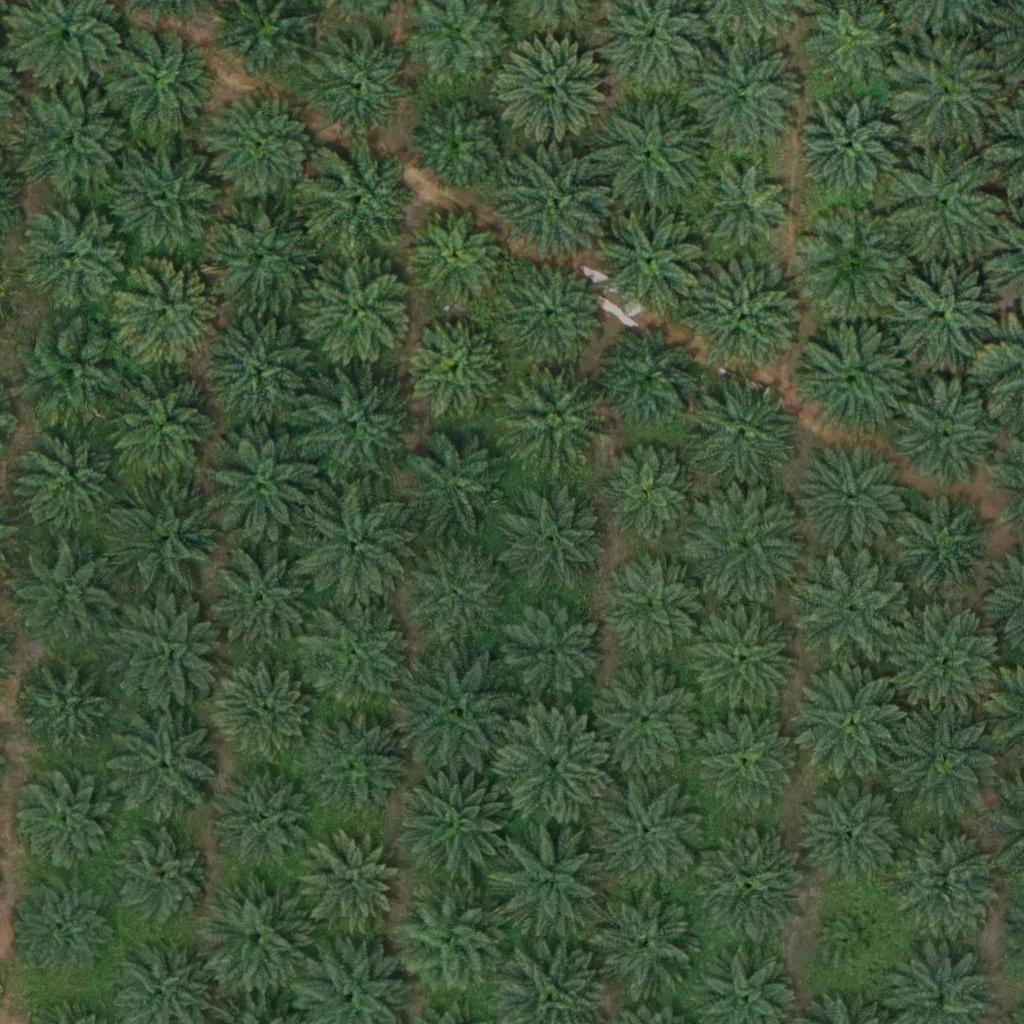Kelapa_Sawit: (99, 24, 212, 138), (206, 90, 319, 204), (304, 143, 417, 257), (301, 254, 414, 368), (890, 825, 1003, 939), (796, 666, 909, 780), (402, 426, 515, 540), (391, 882, 504, 996), (14, 321, 127, 434), (202, 203, 315, 316), (498, 36, 611, 149), (594, 95, 707, 208), (595, 200, 708, 313), (689, 260, 802, 373), (799, 319, 912, 432), (890, 35, 1003, 148), (894, 606, 1007, 719), (888, 701, 1001, 814), (795, 441, 908, 554), (799, 557, 912, 670), (686, 376, 799, 489), (691, 490, 804, 603), (498, 709, 611, 822), (495, 821, 608, 934), (399, 539, 512, 652), (404, 658, 517, 771), (397, 770, 510, 883), (299, 370, 412, 483), (301, 492, 414, 605), (106, 594, 219, 707), (106, 710, 219, 823), (104, 822, 217, 935), (496, 361, 608, 475), (692, 604, 804, 718), (495, 485, 607, 599), (15, 83, 127, 196), (16, 201, 128, 314), (111, 142, 223, 255), (112, 257, 224, 370), (209, 310, 321, 423), (496, 149, 608, 262), (494, 259, 606, 372), (686, 42, 798, 155), (798, 205, 910, 318), (892, 147, 1004, 260), (890, 253, 1002, 366), (894, 377, 1006, 490), (694, 830, 806, 943), (593, 667, 705, 780), (597, 777, 709, 890), (302, 598, 414, 711), (300, 711, 412, 824), (207, 429, 319, 542), (204, 540, 316, 653), (107, 373, 219, 486), (110, 488, 222, 601), (197, 881, 309, 994), (591, 886, 703, 999), (413, 92, 513, 193), (597, 327, 697, 428), (697, 160, 797, 261), (797, 93, 897, 194), (899, 494, 999, 595), (303, 830, 403, 931), (211, 662, 311, 763), (216, 768, 316, 869), (14, 432, 114, 533), (11, 545, 111, 646), (13, 658, 113, 759), (315, 32, 415, 132), (411, 207, 511, 307), (407, 319, 507, 419), (804, 783, 904, 883), (697, 714, 797, 814), (598, 446, 698, 546), (603, 560, 703, 660), (506, 604, 606, 704), (14, 774, 114, 874), (14, 878, 114, 978), (825, 908, 887, 971)
